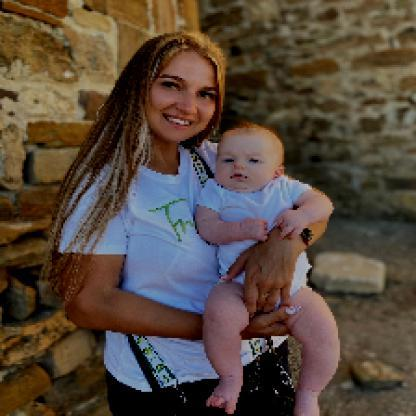child: (194, 122, 343, 416)
